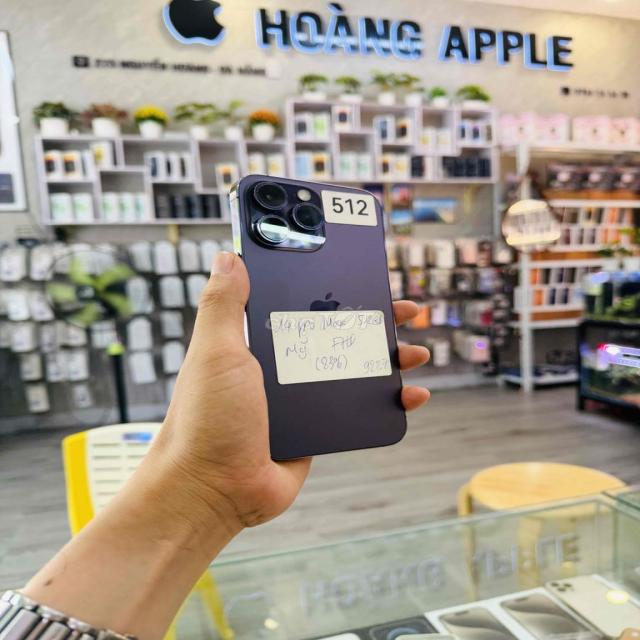scratch: (247, 180, 328, 250)
